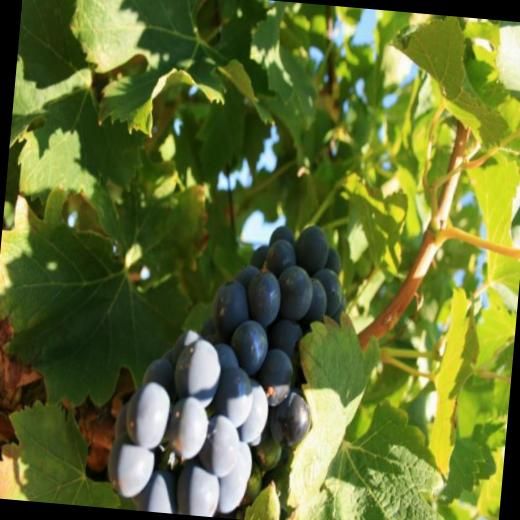Orange: (105, 209, 351, 520)
